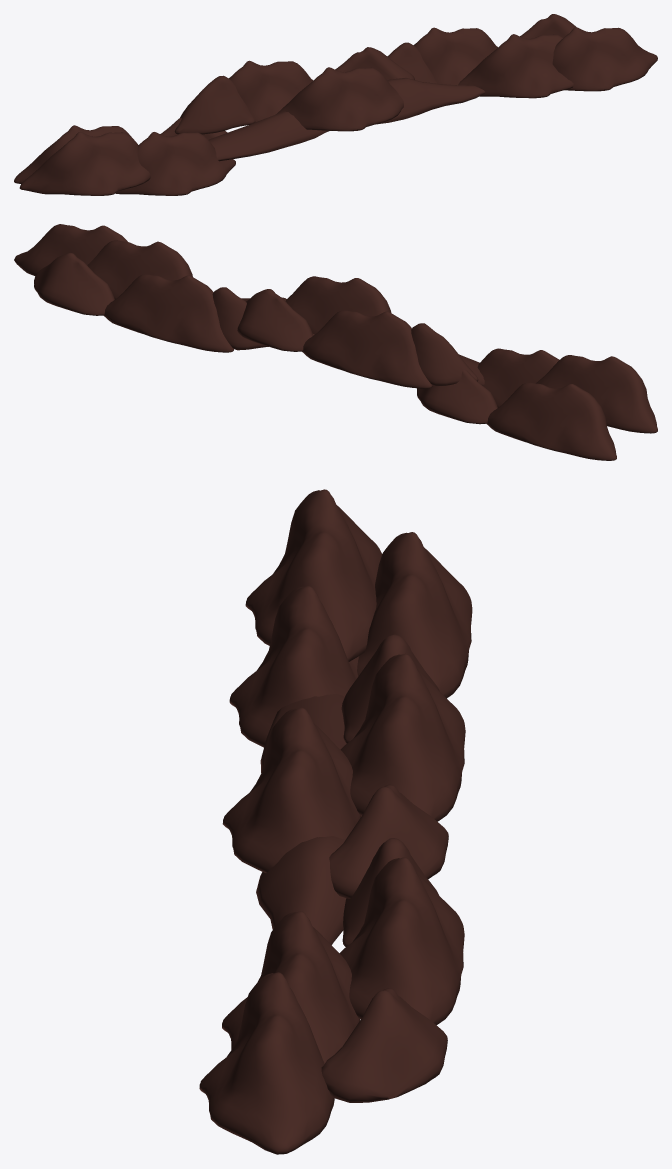
File: Mountain.glb
The picture shows the model from 3 angles, top to bottom: view 1: azimuth 30°, elevation 25°; view 2: azimuth 150°, elevation 25°; view 3: azimuth 270°, elevation 25°; orthographic projection. The views are drawn at different scales.
Visible parts, largest first — view 1: Mont 03.007, Mont 03.002, Mont 05, Mont 03.006, Mont 03.004, Mont 03.001, Mont 03.003, Mont 03, Mont 04.001, Mont 02.001, Mont 03.005, Mont 04 (+1 smaller); view 2: Mont 03.005, Mont 03, Mont 03.003, Mont 03.007, Mont 03.002, Mont 03.001, Mont 02, Mont 02.001, Mont 03.006, Mont 03.004, Mont 02.002, Mont 04.001 (+1 smaller); view 3: Mont 03.006, Mont 03, Mont 03.003, Mont 03.002, Mont 03.007, Mont 03.005, Mont 03.004, Mont 02, Mont 03.001, Mont 05, Mont 02.001, Mont 04.001 (+1 smaller).
Part boxes in pixels (box(x1,y1,x2,y2)): Mont 03.007: box(19, 132, 150, 195); Mont 03.002: box(276, 67, 403, 131); Mont 05: box(208, 78, 484, 161); Mont 03.006: box(552, 27, 657, 91); Mont 03.004: box(115, 132, 235, 195); Mont 03.001: box(458, 34, 573, 98); Mont 03.003: box(229, 60, 313, 122); Mont 03: box(414, 27, 497, 85); Mont 04.001: box(174, 75, 255, 134); Mont 02.001: box(335, 47, 414, 80); Mont 03.005: box(14, 125, 131, 183); Mont 04: box(387, 42, 437, 83); Mont 03.005: box(486, 382, 616, 460); Mont 03: box(103, 274, 233, 352); Mont 03.003: box(302, 310, 432, 388); Mont 03.007: box(536, 355, 657, 433); Mont 03.002: box(285, 276, 391, 334); Mont 03.001: box(87, 240, 192, 299); Mont 02: box(34, 253, 114, 315); Mont 02.001: box(237, 289, 313, 351); Mont 03.006: box(14, 224, 127, 275); Mont 03.004: box(477, 348, 559, 407); Mont 02.002: box(417, 369, 497, 424); Mont 04.001: box(411, 323, 478, 386); Mont 03.006: box(199, 972, 334, 1154); Mont 03: box(339, 857, 464, 1025); Mont 03.003: box(340, 653, 465, 821); Mont 03.002: box(222, 707, 360, 872); Mont 03.007: box(245, 489, 382, 661); Mont 03.005: box(357, 532, 472, 698); Mont 03.004: box(229, 586, 358, 747); Mont 02: box(321, 988, 447, 1102); Mont 03.001: box(222, 911, 359, 1063); Mont 05: box(256, 694, 361, 945); Mont 02.001: box(329, 784, 448, 898); Mont 04.001: box(341, 634, 439, 743).
Bounding box in the file's own units: 183 × 21.6 × 35.01.
